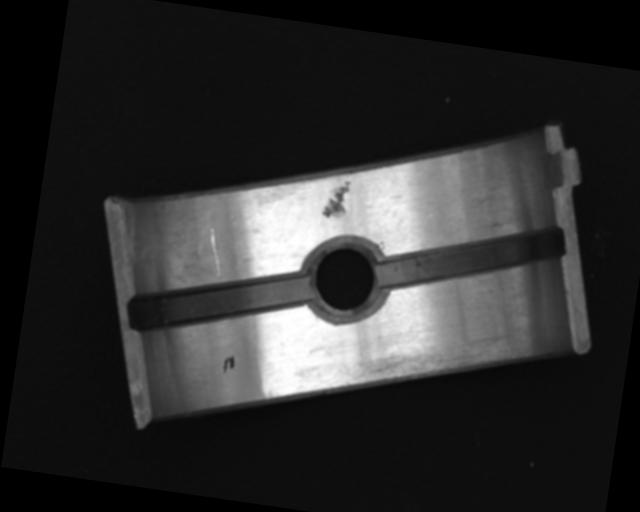blot: (220, 354, 236, 375)
bruise: (321, 176, 353, 221)
gap: (375, 204, 566, 311), (127, 251, 312, 352)
hole: (301, 233, 389, 327)
nick: (201, 225, 227, 279)
scratch: (350, 312, 521, 410)
